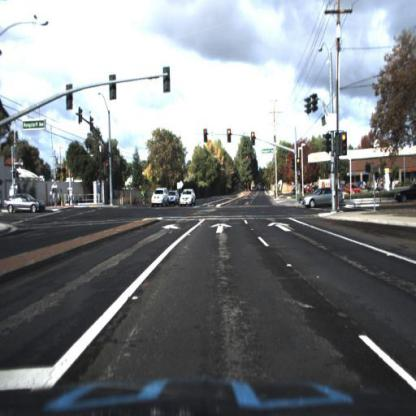biker: (139, 186, 148, 207)
car: (3, 192, 44, 217), (305, 186, 345, 211), (393, 181, 416, 210), (393, 178, 416, 205), (150, 186, 168, 209), (180, 185, 196, 208), (344, 180, 361, 198), (169, 189, 179, 207)
trafficLight-Red: (341, 130, 348, 157), (340, 131, 346, 156), (227, 129, 234, 147), (295, 154, 302, 172), (250, 131, 257, 148), (203, 128, 209, 146), (251, 129, 259, 141), (296, 155, 302, 170), (203, 128, 209, 141), (226, 128, 232, 140)
trafficLight-RedLeft: (104, 159, 110, 177)
